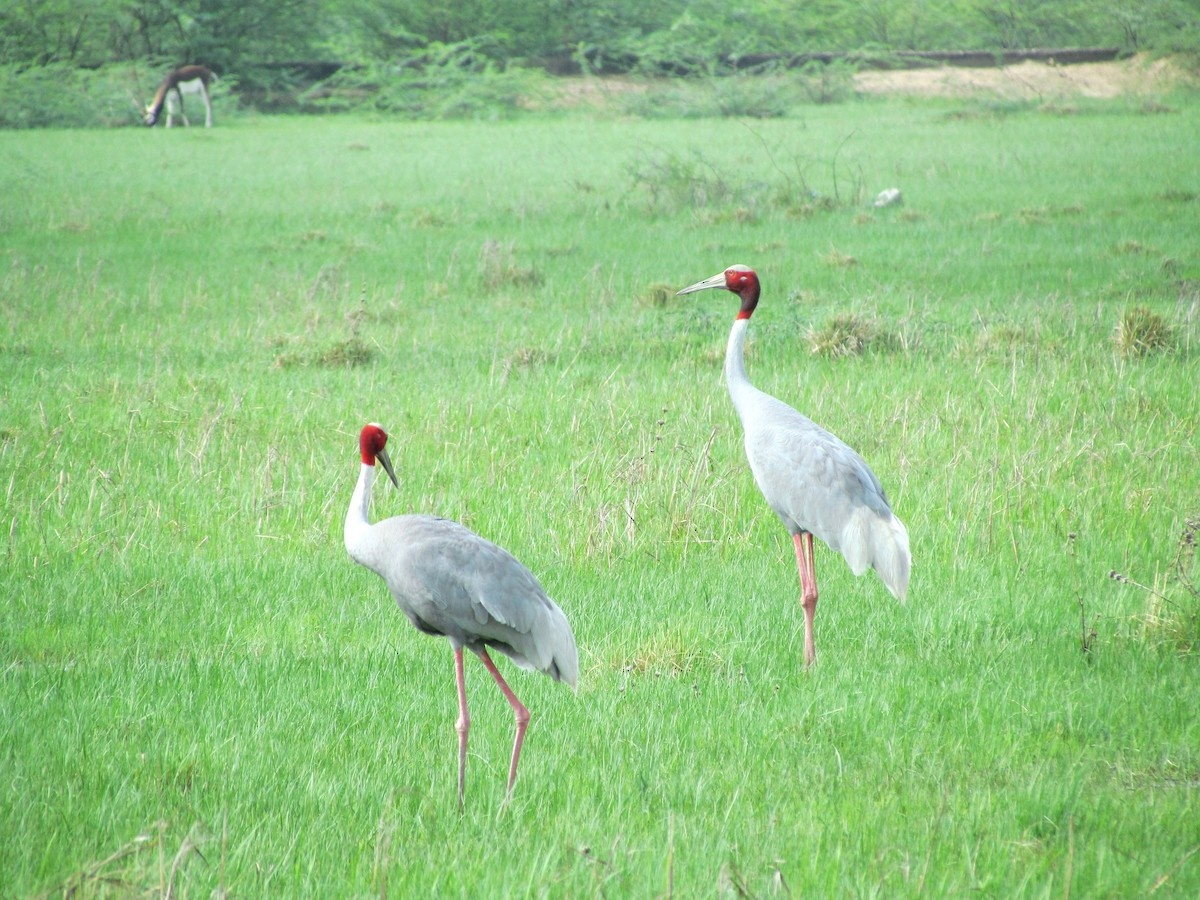crane: (674, 268, 905, 664), (340, 416, 577, 793)
